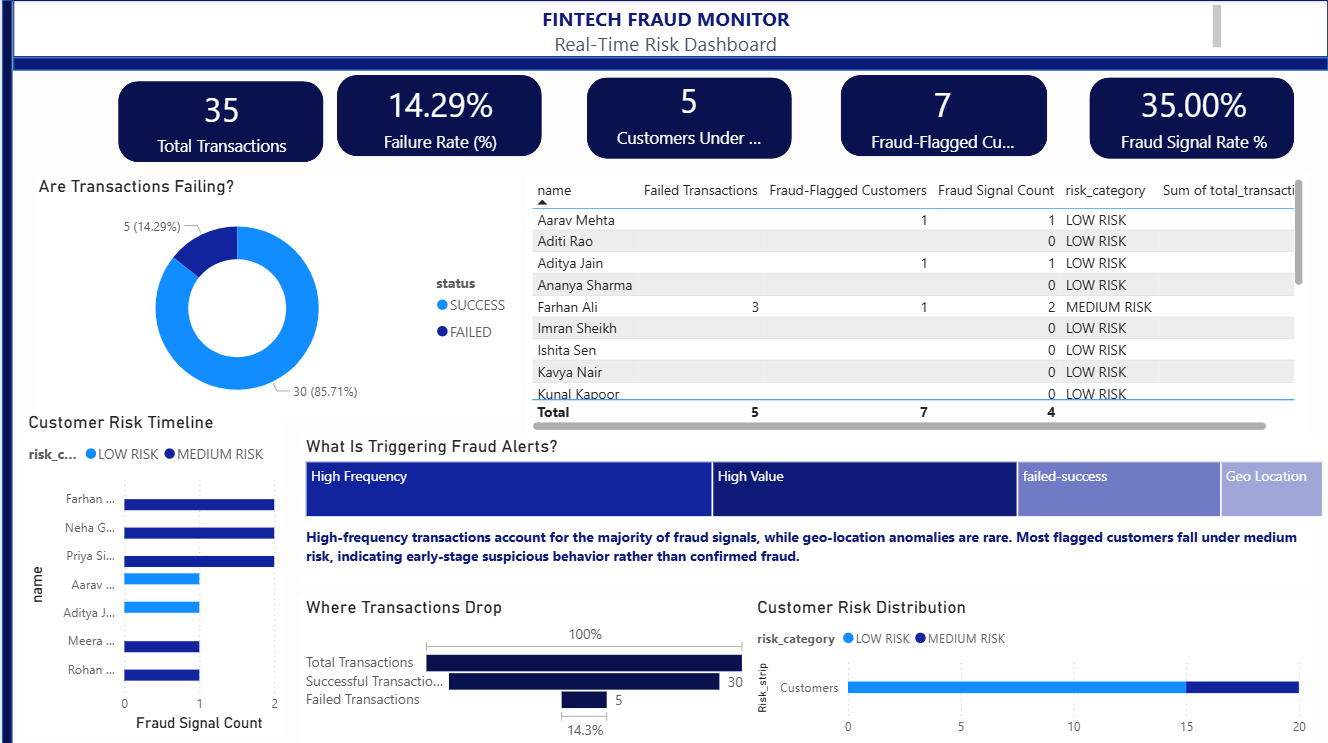

The page's visual inventory and layout, read from the dashboard file:
{"tool":"powerbi","page":{"name":"Page 1","canvas":[1280,720],"ordinal":0},"visuals":[{"type":"shape","box":[10.7,0,1269,55.2],"z":0},{"type":"textbox","box":[108.6,0,1073.2,55.2],"z":1000},{"type":"shape","box":[10.7,55.2,1269,12.5],"z":2000},{"type":"shape","box":[112,78,198,78],"z":3000},{"type":"shape","box":[323.9,73,197.6,78.3],"z":4000},{"type":"shape","box":[564.2,74.8,197.6,78.3],"z":5000},{"type":"shape","box":[809.8,73,199.3,78.3],"z":6000},{"type":"shape","box":[1050.1,74.8,197.6,78.3],"z":7000},{"type":"card","fields":{"Values":["measure.Total Transactions"]},"box":[136,72,152,88],"z":8000},{"type":"card","fields":{"Values":["measure.Failure Rate (%)"]},"box":[347.1,67.6,151.3,89],"z":9000},{"type":"card","fields":{"Values":["measure.Customers Under Review"]},"box":[587.3,64.1,151.3,89],"z":10000},{"type":"card","fields":{"Values":["measure.Fraud-Flagged Customers"]},"box":[832.9,67.6,151.3,89],"z":11000},{"type":"card","fields":{"Values":["Measure.Fraud Signal Rate %"]},"box":[1075,67.6,151.3,89],"z":12000},{"type":"donutChart","title":"Are Transactions Failing?","fields":{"Category":["transactions_fact.status"],"Y":["Measure.Transaction Count"]},"box":[30,168.3,470,236.7],"z":13000},{"type":"tableEx","fields":{"Values":["customers_dim.name","Measure.Failed Transactions","Measure.Fraud-Flagged Customers","Measure.Fraud Signal Count","customer_fraud_summary.risk_category","Sum(customer_transaction_metrics.total_transactions)"]},"box":[505.7,167.1,755.7,252.9],"z":14000},{"type":"treemap","title":"What Is Triggering Fraud Alerts?","fields":{"Values":["Sum(fraud_reason_flags.high_value_flag)","Sum(fraud_reason_flags.high_frequency_flag)","Sum(fraud_reason_flags.geo_location_flag)","Sum(fraud_reason_flags.failed_success_flag)"]},"box":[288.6,420,991.4,84.3],"z":15000},{"type":"barChart","title":"Customer Risk Distribution","fields":{"Category":["Measure.Risk_strip"],"Y":["customers_dim.Number of Customers"],"Series":["customer_fraud_summary.risk_category"]},"box":[724,576,540,144],"z":16000},{"type":"funnel","title":"Where Transactions Drop","fields":{"Category":["Funnel Stage.Stage"],"Y":["Funnel Stage.Funnel Value"]},"box":[288,576,436,144],"z":17000},{"type":"shape","box":[0,0,10,720],"z":18000},{"type":"clusteredBarChart","title":"Customer Risk Timeline","fields":{"Category":["customer_fraud_summary.name"],"Y":["Measure.Fraud Signal Count"],"Series":["customer_fraud_summary.risk_category"]},"box":[20,397.1,251.4,314.3],"z":19000},{"type":"textbox","box":[288,504,976,62],"z":20000}]}

Visuals, with their boxes in screenshot pixels (x1, y1, x2, y2), scaled from the page's 1280x720 canvas onto the 1328x743 screenshot:
shape: <region>11, 0, 1327, 57</region>
textbox: <region>113, 0, 1226, 57</region>
shape: <region>11, 57, 1327, 70</region>
shape: <region>116, 80, 322, 161</region>
shape: <region>336, 75, 541, 156</region>
shape: <region>585, 77, 790, 158</region>
shape: <region>840, 75, 1047, 156</region>
shape: <region>1089, 77, 1294, 158</region>
card - measure.Total Transactions: <region>141, 74, 299, 165</region>
card - measure.Failure Rate (%): <region>360, 70, 517, 162</region>
card - measure.Customers Under Review: <region>609, 66, 766, 158</region>
card - measure.Fraud-Flagged Customers: <region>864, 70, 1021, 162</region>
card - Measure.Fraud Signal Rate %: <region>1115, 70, 1272, 162</region>
"Are Transactions Failing?" donutChart: <region>31, 174, 519, 418</region>
tableEx - customers_dim.name x Measure.Failed Transactions: <region>525, 172, 1309, 433</region>
"What Is Triggering Fraud Alerts?" treemap: <region>299, 433, 1327, 520</region>
"Customer Risk Distribution" barChart: <region>751, 594, 1311, 742</region>
"Where Transactions Drop" funnel: <region>299, 594, 751, 742</region>
shape: <region>0, 0, 10, 742</region>
"Customer Risk Timeline" clusteredBarChart: <region>21, 410, 282, 734</region>
textbox: <region>299, 520, 1311, 584</region>
